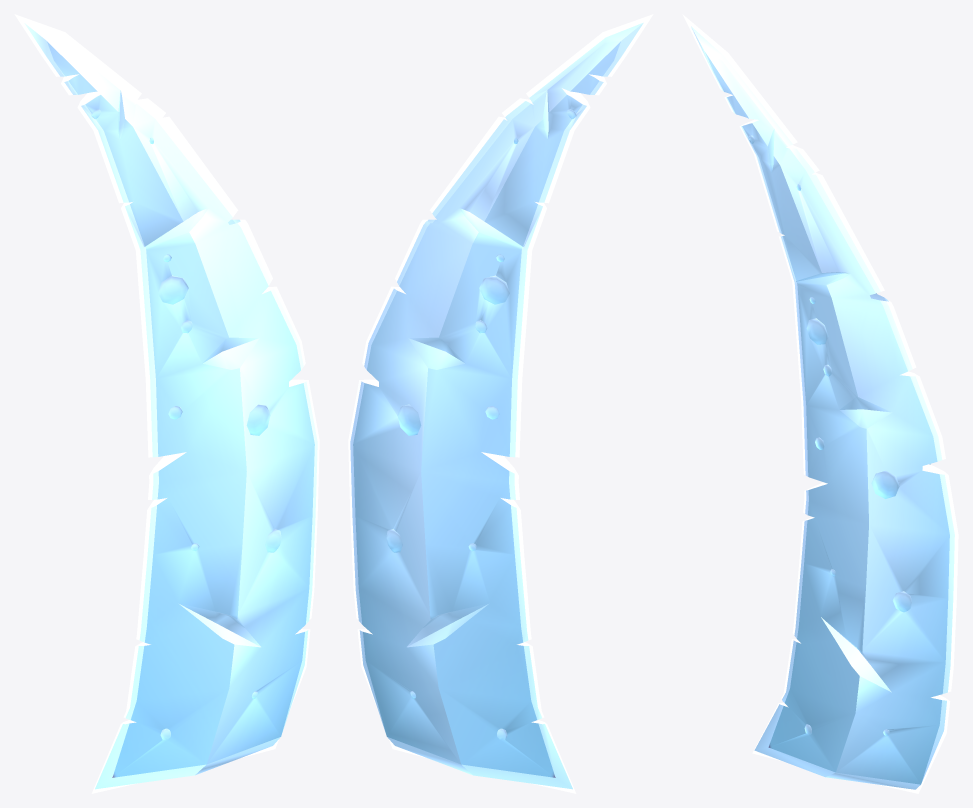
The model's file is steel_blade_bubbles_053.glb.
The picture shows the model from 3 angles, left to right: view 1: azimuth 30°, elevation 25°; view 2: azimuth 150°, elevation 25°; view 3: azimuth 330°, elevation 25°; orthographic projection. The views are drawn at different scales.
Parts seen in each view (by area): view 1: steel_blade_bubbles.053; view 2: steel_blade_bubbles.053; view 3: steel_blade_bubbles.053.
Boxes of the visible parts, x1,y1,x2,y2 form: steel_blade_bubbles.053: [14, 14, 319, 793]; steel_blade_bubbles.053: [348, 14, 653, 793]; steel_blade_bubbles.053: [682, 14, 958, 793].
Size of the model in its own units: 4.91 by 12.29 by 0.7262.
1 material, 1 textured.
